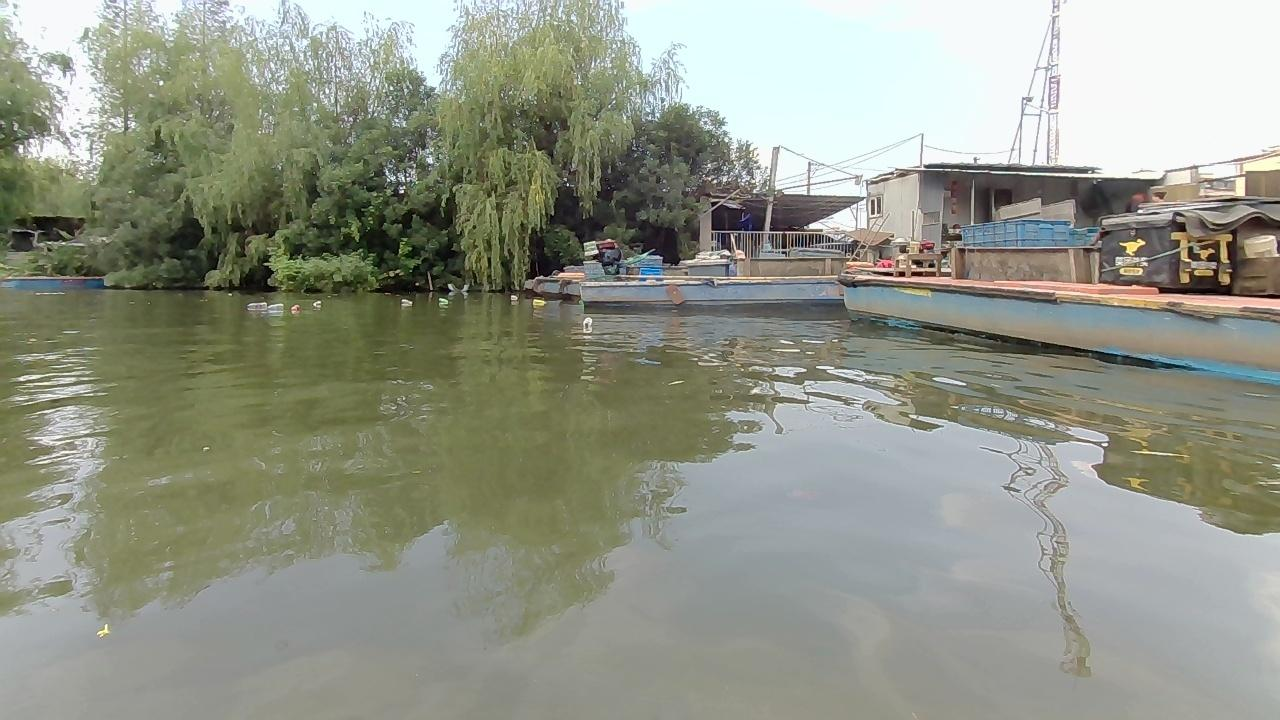bottle: (264, 303, 287, 317), (529, 297, 550, 310), (433, 294, 451, 308), (246, 300, 264, 313), (400, 296, 415, 311), (583, 316, 593, 328), (509, 292, 519, 302), (313, 297, 323, 307), (288, 302, 295, 311)
